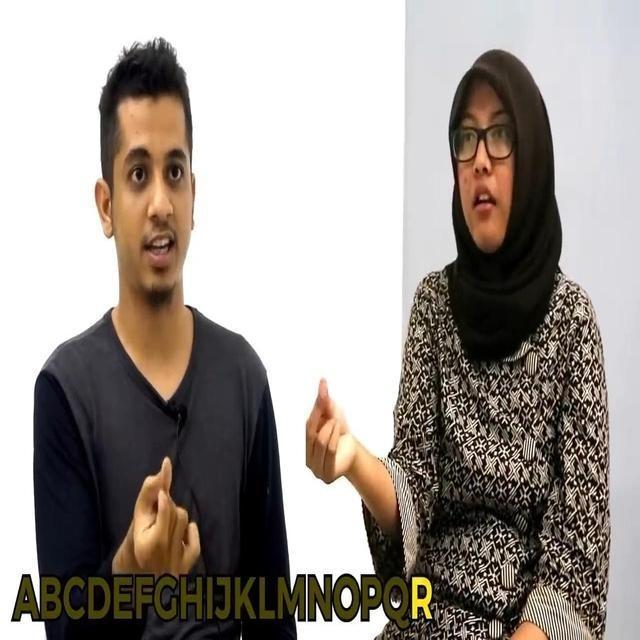R: (125, 448, 208, 578)
